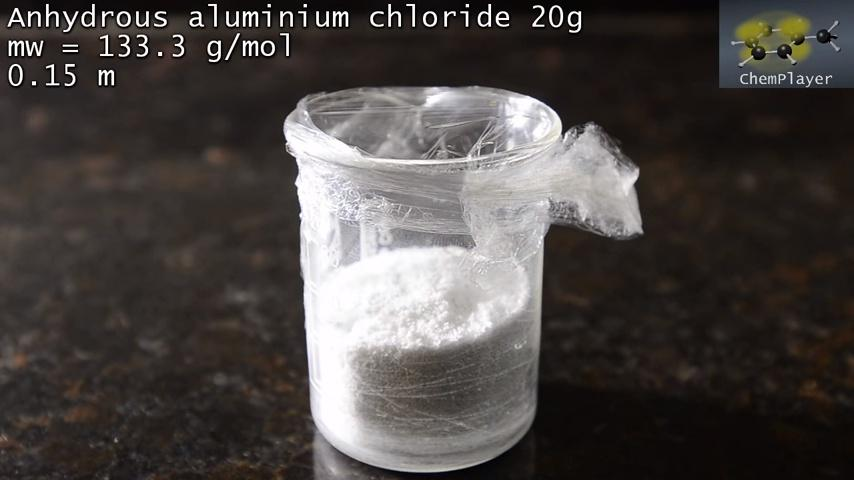Beaker: (289, 78, 637, 471)
